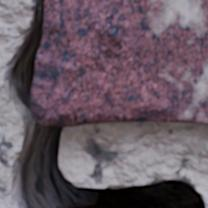brick: (32, 0, 207, 125)
crack: (2, 0, 206, 207)
